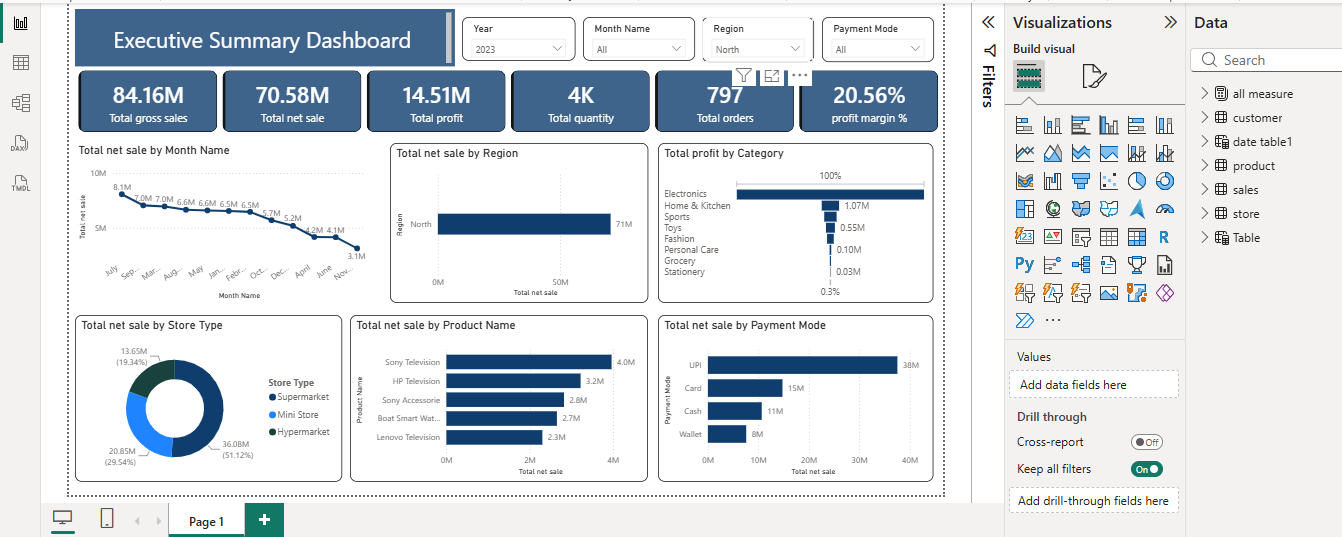

The page's visual inventory and layout, read from the dashboard file:
{"tool":"powerbi","page":{"name":"Page 1","canvas":[1280,720],"ordinal":0},"visuals":[{"type":"cardVisual","fields":{"Data":["all measure.Total gross sales","all measure.Total net sale","all measure.Total profit","all measure.Total quantity","all measure.Total orders","all measure.profit margin %"]},"box":[9.5,93.4,1270.8,100.1],"z":0},{"type":"textbox","box":[9.5,9.5,556.2,83.9],"z":1000},{"type":"slicer","fields":{"Values":["date table1.Month Name"]},"box":[752.5,20.3,163.8,63.6],"z":2000},{"type":"slicer","fields":{"Values":["customer.Region"]},"box":[925.7,20.3,163.8,66.3],"z":3000},{"type":"slicer","fields":{"Values":["sales.Payment Mode"]},"box":[1101.6,20.3,163.8,66.3],"z":4000},{"type":"clusteredBarChart","fields":{"Y":["all measure.Total net sale"],"Category":["customer.Region"]},"box":[469.6,204.4,377.6,234.1],"z":5000},{"type":"funnel","fields":{"Category":["product.Category"],"Y":["all measure.Total profit"]},"box":[862.1,204.4,403.3,234.1],"z":6000},{"type":"donutChart","fields":{"Y":["all measure.Total net sale"],"Category":["store.Store Type"]},"box":[9.5,456.1,391.1,243.6],"z":7000},{"type":"clusteredBarChart","fields":{"Category":["product.Product Name"],"Y":["all measure.Total net sale"]},"box":[411.4,456.1,435.8,243.6],"z":8000},{"type":"barChart","fields":{"Category":["sales.Payment Mode"],"Y":["all measure.Total net sale"]},"box":[862.1,456.1,403.3,243.6],"z":9000},{"type":"lineChart","fields":{"Y":["all measure.Total net sale"],"Category":["date table1.Month Name"]},"box":[9.5,204.4,430.4,234.1],"z":10000},{"type":"slicer","fields":{"Values":["date table1.Year"]},"box":[575.2,20.3,166.5,63.6],"z":11000}]}

Visuals, with their boxes on the page's 1280x720 design canvas (x1, y1, x2, y2). These are canvas units, not pixel positions in the 1342x537 screenshot, which may show the page scaled, cropped or inside an application window:
cardVisual - all measure.Total gross sales x all measure.Total net sale: [10,93,1280,194]
textbox: [10,10,566,93]
slicer - date table1.Month Name: [752,20,916,84]
slicer - customer.Region: [926,20,1090,87]
slicer - sales.Payment Mode: [1102,20,1265,87]
clusteredBarChart - all measure.Total net sale x customer.Region: [470,204,847,438]
funnel - product.Category x all measure.Total profit: [862,204,1265,438]
donutChart - all measure.Total net sale x store.Store Type: [10,456,401,700]
clusteredBarChart - product.Product Name x all measure.Total net sale: [411,456,847,700]
barChart - sales.Payment Mode x all measure.Total net sale: [862,456,1265,700]
lineChart - all measure.Total net sale x date table1.Month Name: [10,204,440,438]
slicer - date table1.Year: [575,20,742,84]
